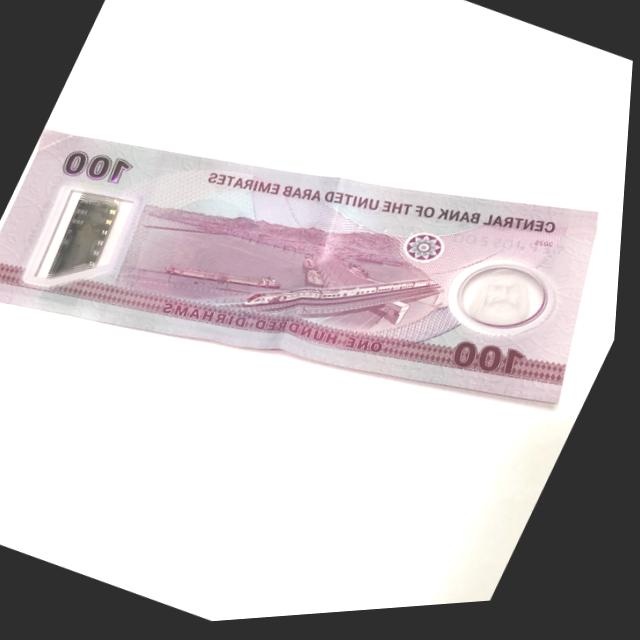100_AED: (0, 131, 596, 407)
